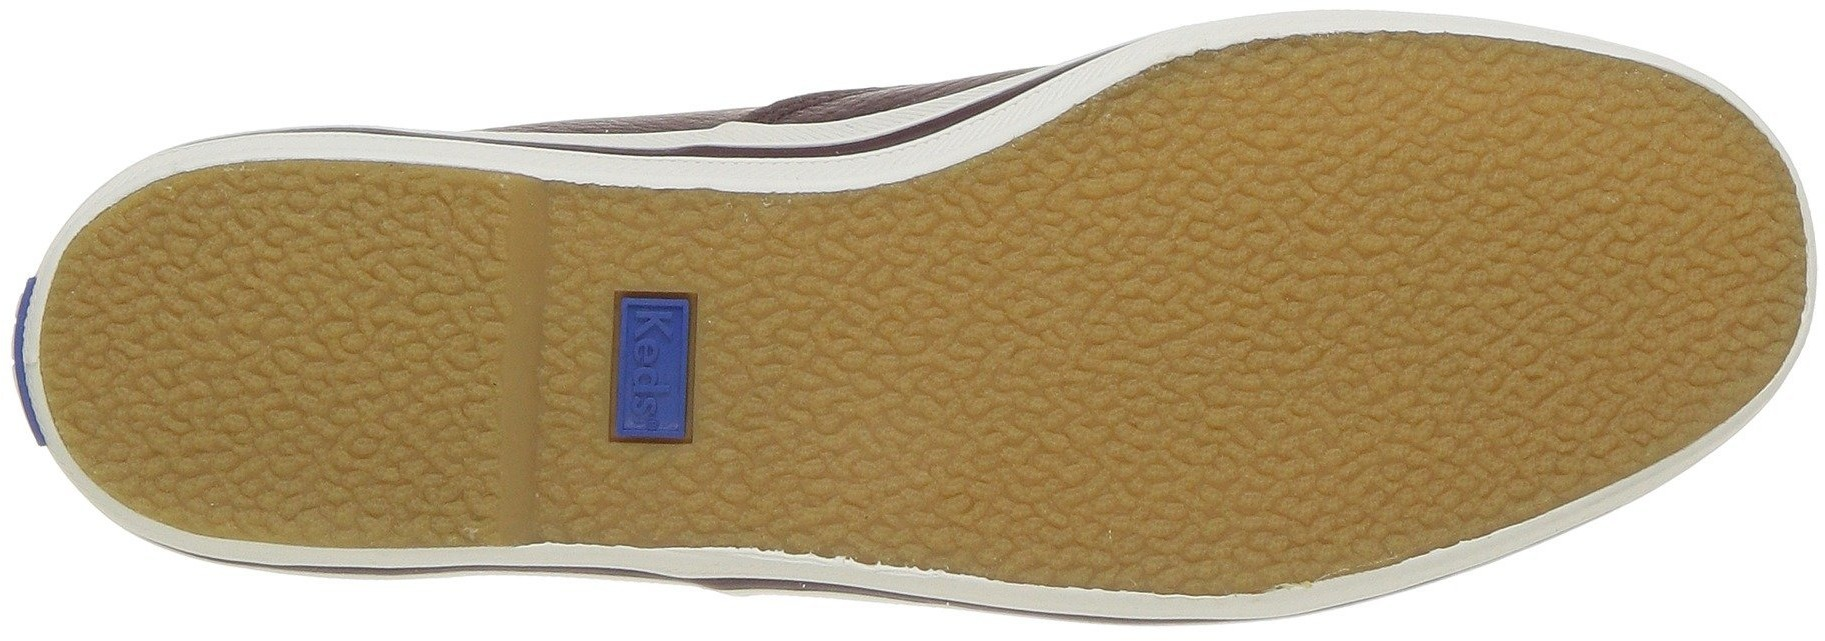other: (963, 175, 1242, 411), (1247, 60, 1518, 302), (1527, 149, 1776, 384), (81, 240, 332, 473), (1254, 312, 1489, 536), (717, 207, 956, 420), (1045, 422, 1203, 584)
quad: (590, 282, 712, 464)
text: (616, 309, 686, 371), (622, 376, 683, 439)
